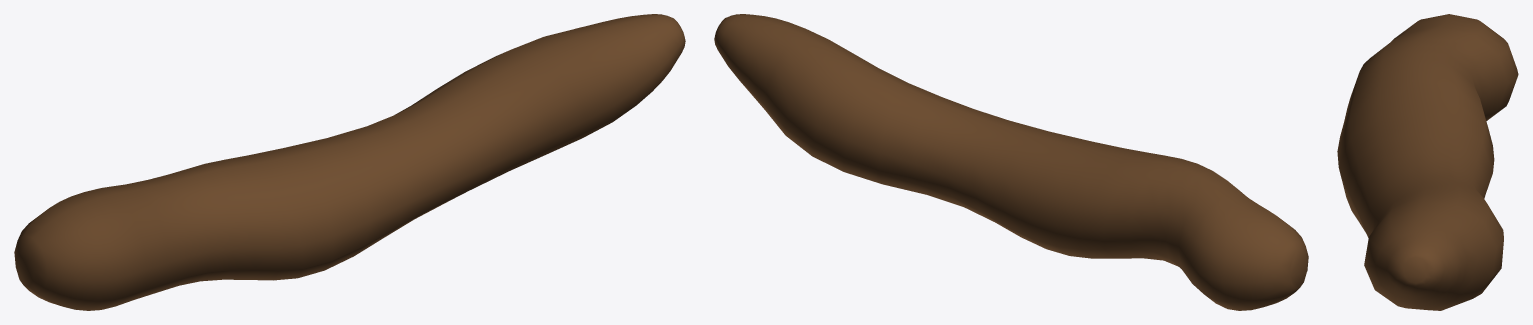
The model's file is FecesBaked.fbx.
3 renders of one model, left to right at view 1: azimuth 30°, elevation 25°; view 2: azimuth 150°, elevation 25°; view 3: azimuth 270°, elevation 25°, orthographic. The views are drawn at different scales.
Parts seen in each view (by area): view 1: Waste Matter; view 2: Waste Matter; view 3: Waste Matter.
Part boxes in pixels (<box>): Waste Matter: <box>14,14,685,310</box>; Waste Matter: <box>714,14,1308,310</box>; Waste Matter: <box>1337,14,1518,310</box>.
Bounding box in the file's own units: 280 × 1213 × 296.
